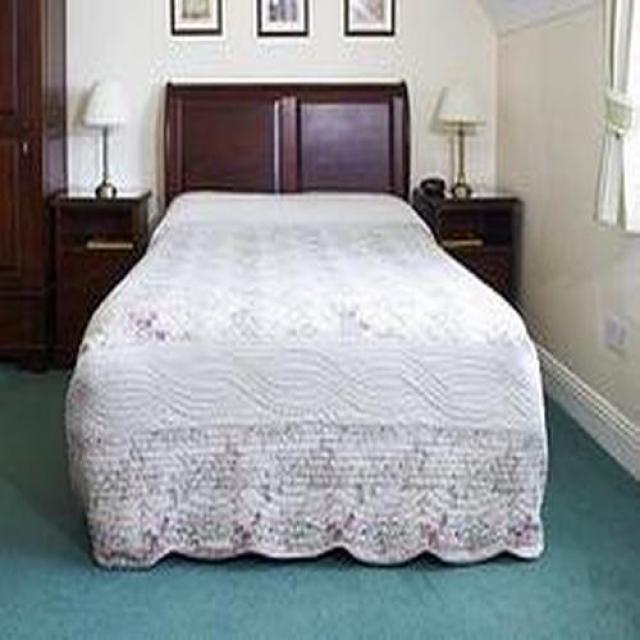bed: (63, 83, 549, 573)
table: (49, 196, 147, 366), (430, 197, 521, 307)
